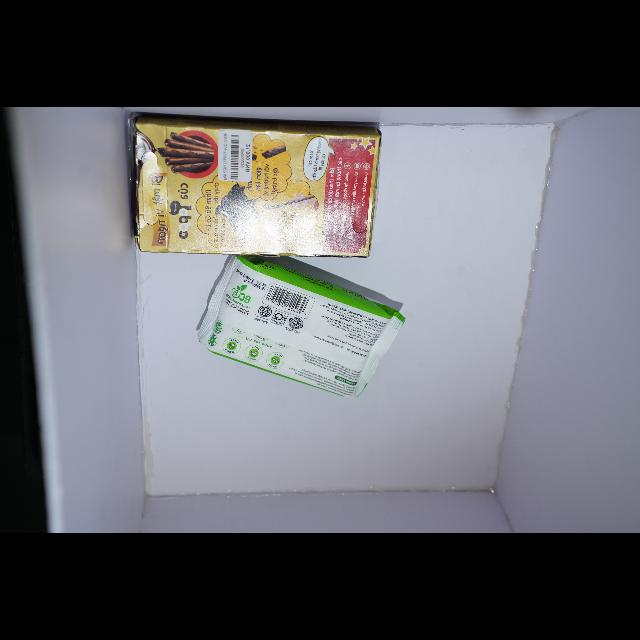banh_toppo_socola: (135, 117, 380, 256)
khan_giay: (198, 256, 404, 396)
